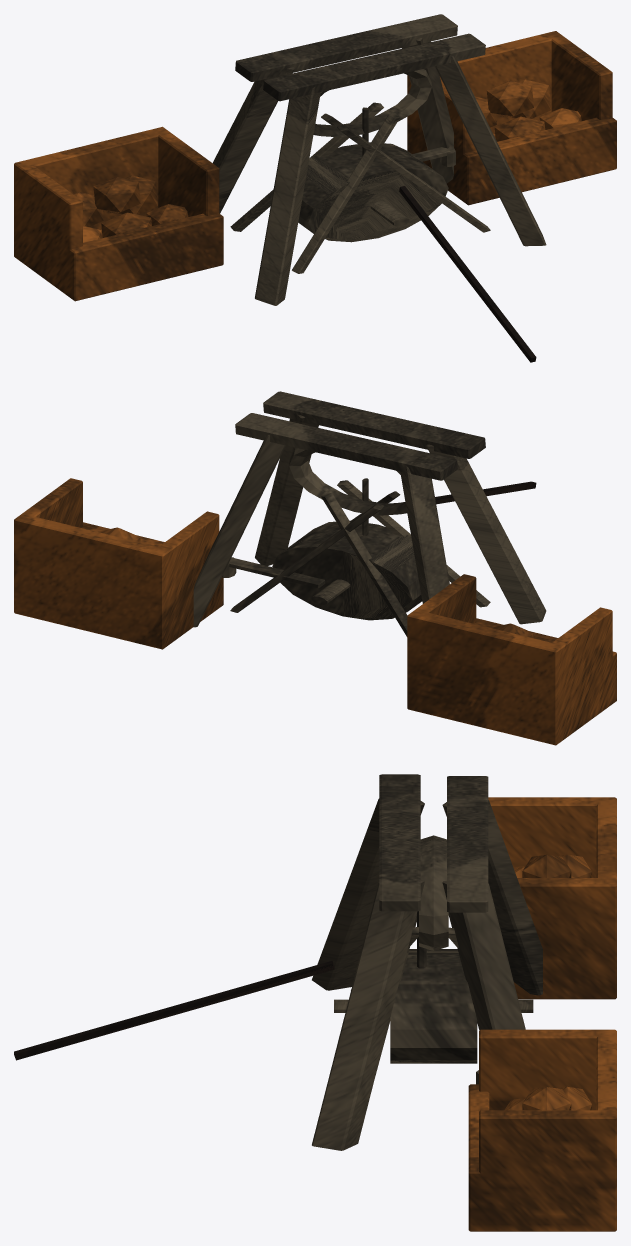
The model's file is coal-seam-service-winch.glb.
The picture shows the model from 3 angles, top to bottom: view 1: azimuth 30°, elevation 25°; view 2: azimuth 150°, elevation 25°; view 3: azimuth 270°, elevation 25°; orthographic projection. The views are drawn at different scales.
Parts seen in each view (by area): view 1: coal-seam-service-winch; view 2: coal-seam-service-winch; view 3: coal-seam-service-winch.
Part boxes in pixels (x1=…): coal-seam-service-winch: x1=14, y1=14, x2=616, y2=362; coal-seam-service-winch: x1=14, y1=391, x2=616, y2=745; coal-seam-service-winch: x1=14, y1=774, x2=616, y2=1231.
Size of the model in its own units: 8.7 by 3 by 6.91.
Materials: 1 (1 with a texture image).
